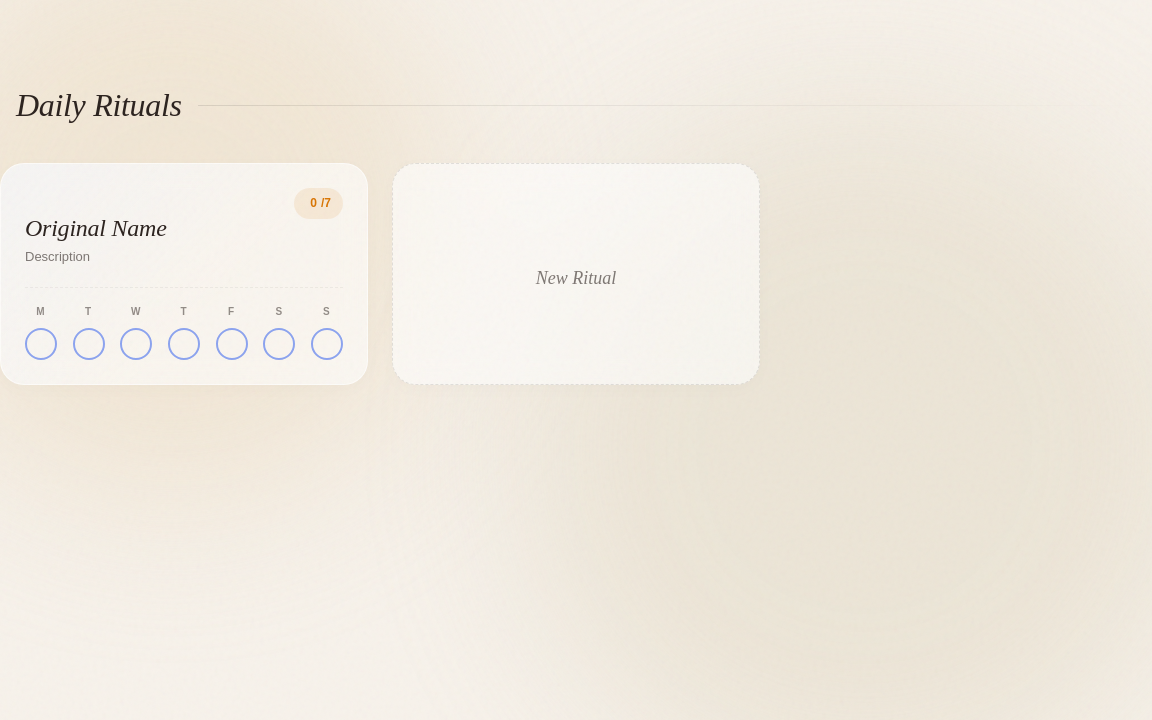
Test: HabitTracker › Editing habits › allows editing habit name by clicking
Note: Click on the habit name to edit
Click the heading "Original Name": {"x": 96, "y": 228} 25,214 -> 167,243
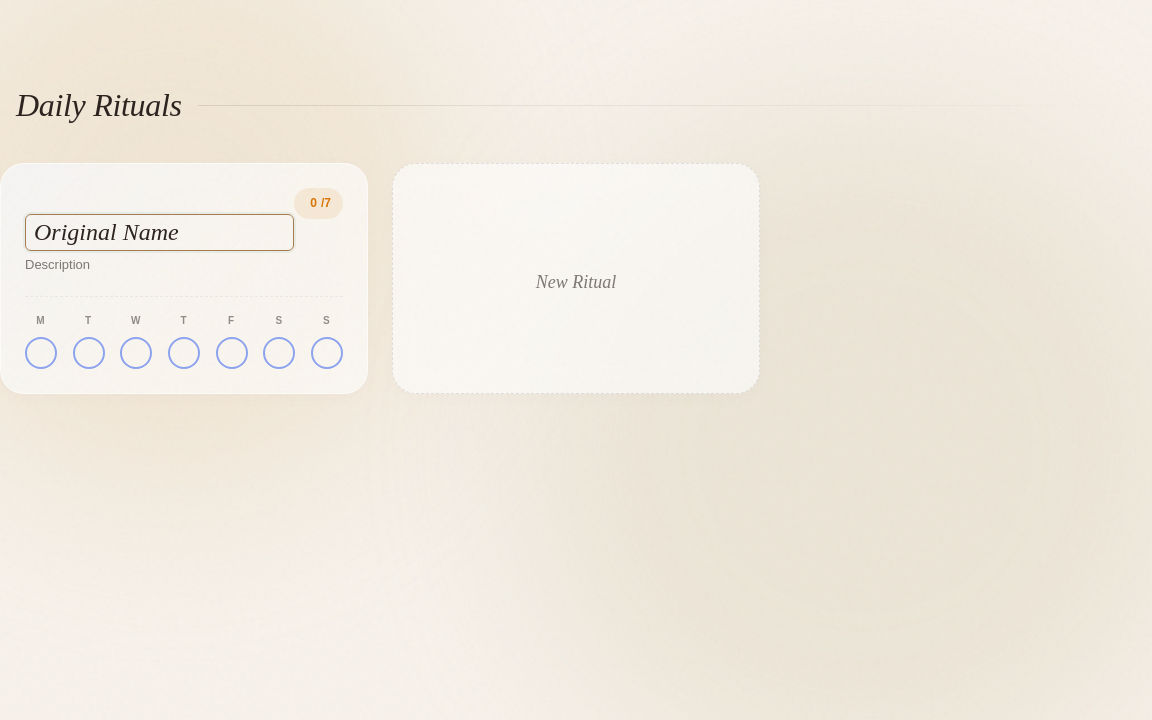
Result: the field showing "Original Name" is shown at 25,214 -> 294,251
